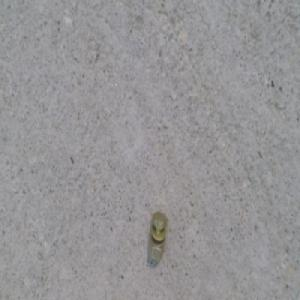BoltNutSet: (148, 211, 166, 258)
